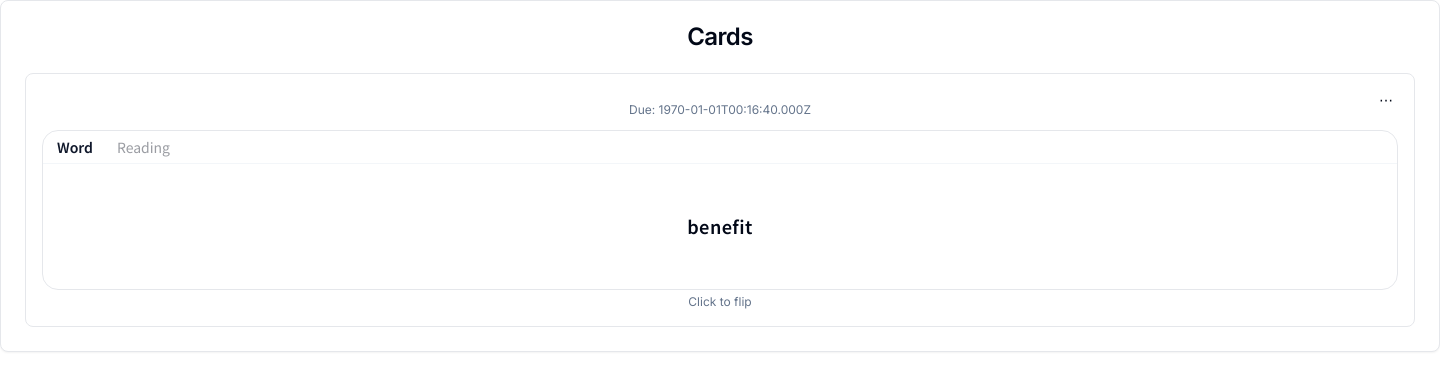
it: CardSection › front multi-field uses field tabs and shows only the active tab
Expected: the text "benefit" is shown, [687, 213, 753, 239]
Expected: the text "ˈbenɪfɪt" is not shown
Click the tab "Reading": [144, 147] box [107, 131, 180, 163]
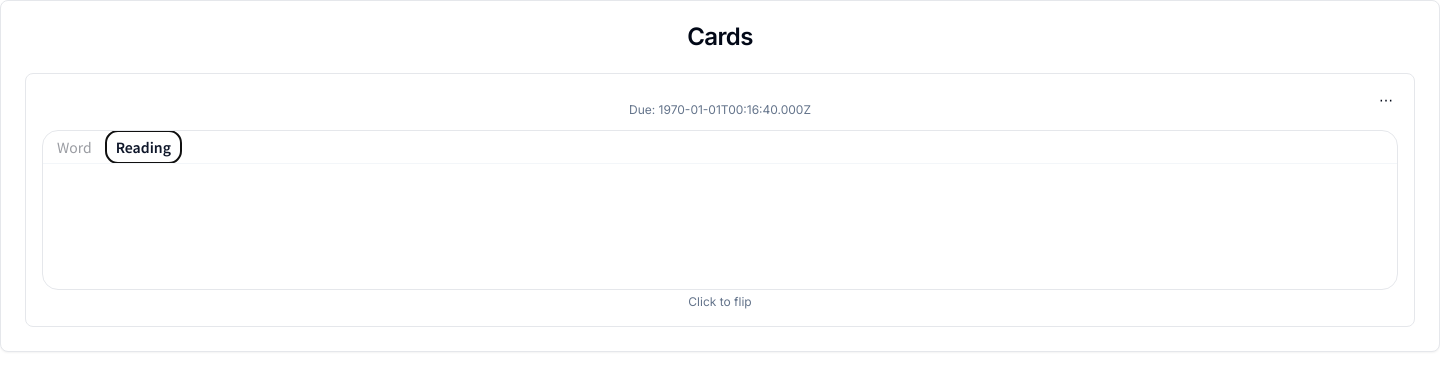
Result: the button "benefit" is gone
